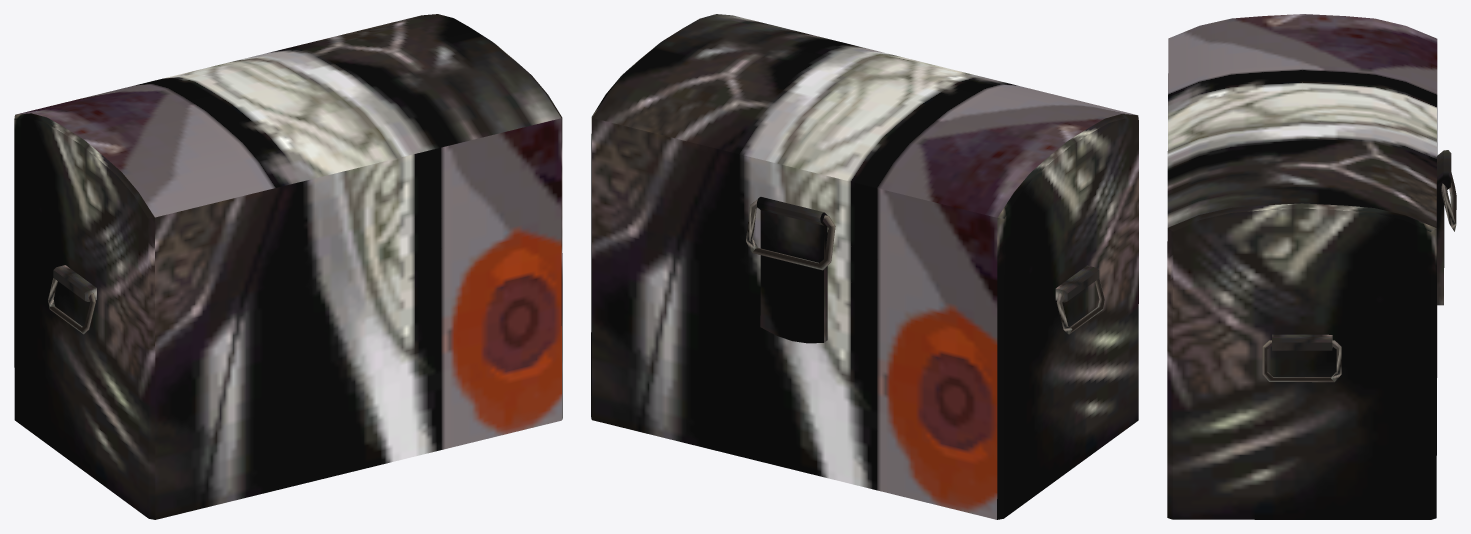
3 renders of one model, left to right at view 1: azimuth 30°, elevation 25°; view 2: azimuth 150°, elevation 25°; view 3: azimuth 270°, elevation 25°, orthographic. The views are drawn at different scales.
Visible parts, largest first — view 1: e_nb_box_none; view 2: e_nb_box_none; view 3: e_nb_box_none.
Boxes of the visible parts, x1=… form: e_nb_box_none: x1=14, y1=14, x2=562, y2=519; e_nb_box_none: x1=591, y1=14, x2=1138, y2=519; e_nb_box_none: x1=1167, y1=14, x2=1456, y2=519.
Bounding box in the file's own units: 83.81 × 58.94 × 49.
Materials: 1 (1 with a texture image).
